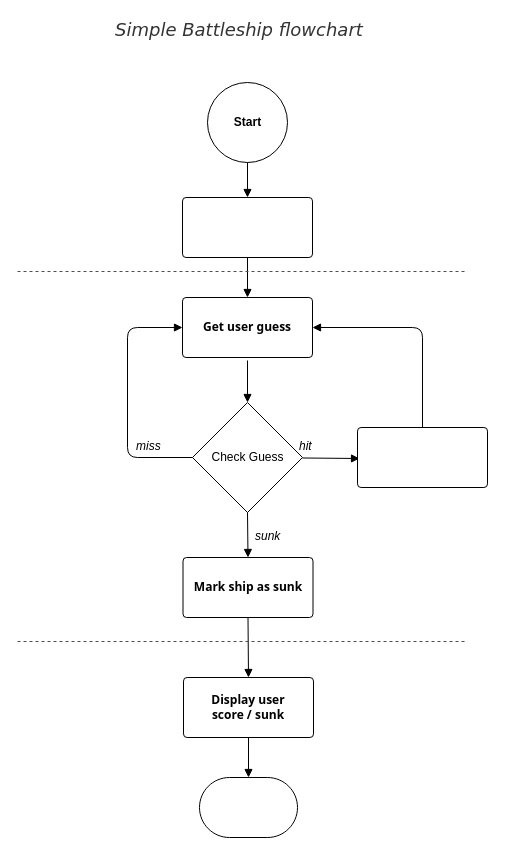
This 505x855 diagram has some shape labels left out. Here are the shapes that lost their labels. From the top down, the box of each, then its label:
(182, 196, 312, 258): Game set-up
(356, 426, 488, 488): Mark Ship as hit
(198, 776, 298, 838): Game Over
